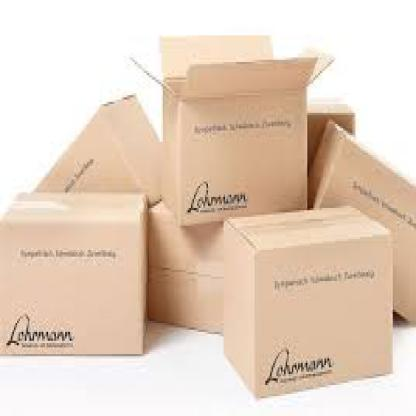CARDBOARD: (129, 33, 334, 226), (219, 201, 393, 396), (0, 191, 146, 357), (309, 115, 414, 323), (32, 91, 160, 210), (146, 195, 222, 336), (306, 93, 354, 208)
